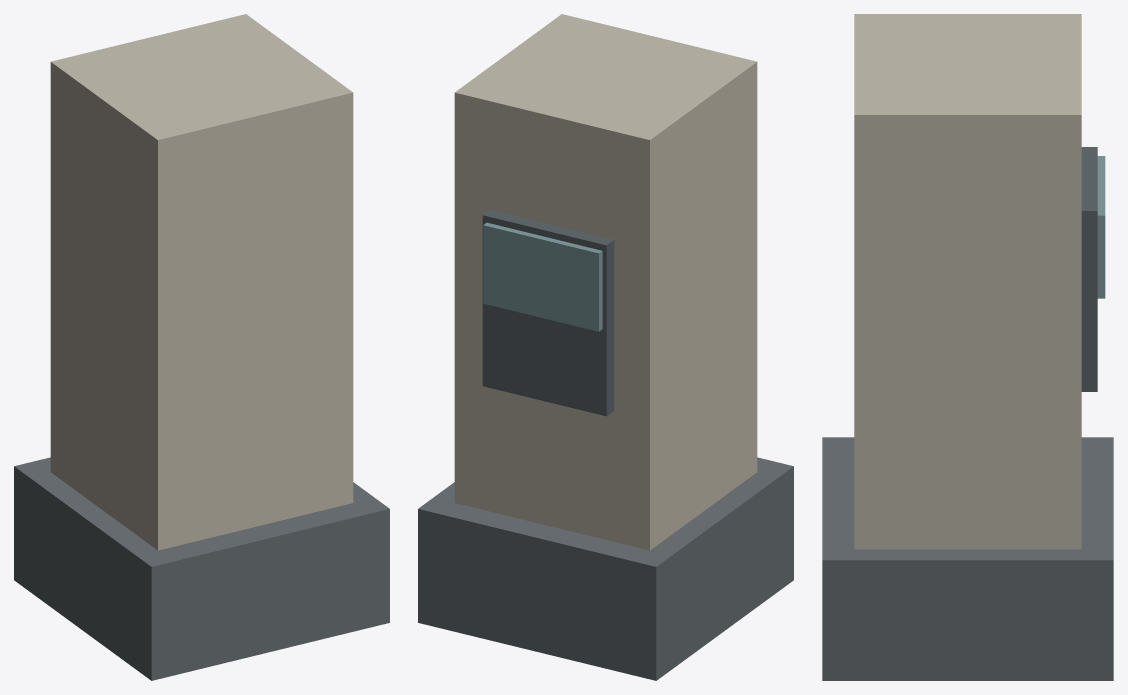
File: iz3_health_oxygen_01.glb
The picture shows the model from 3 angles, left to right: view 1: azimuth 30°, elevation 25°; view 2: azimuth 150°, elevation 25°; view 3: azimuth 270°, elevation 25°; orthographic projection. The views are drawn at different scales.
Parts seen in each view (by area): view 1: cabinet, base; view 2: cabinet, base, panel, display; view 3: cabinet, base, panel, display.
Boxes of the visible parts, <box> form: cabinet: <box>50,14,353,550</box>; base: <box>14,457,389,680</box>; cabinet: <box>454,14,757,550</box>; base: <box>418,457,793,680</box>; panel: <box>482,209,614,416</box>; display: <box>483,222,602,331</box>; cabinet: <box>854,14,1081,549</box>; base: <box>822,437,1113,680</box>; panel: <box>1081,147,1097,391</box>; display: <box>1097,156,1105,298</box>.
Size of the model in its own units: 0.7 by 1.47 by 0.7.
